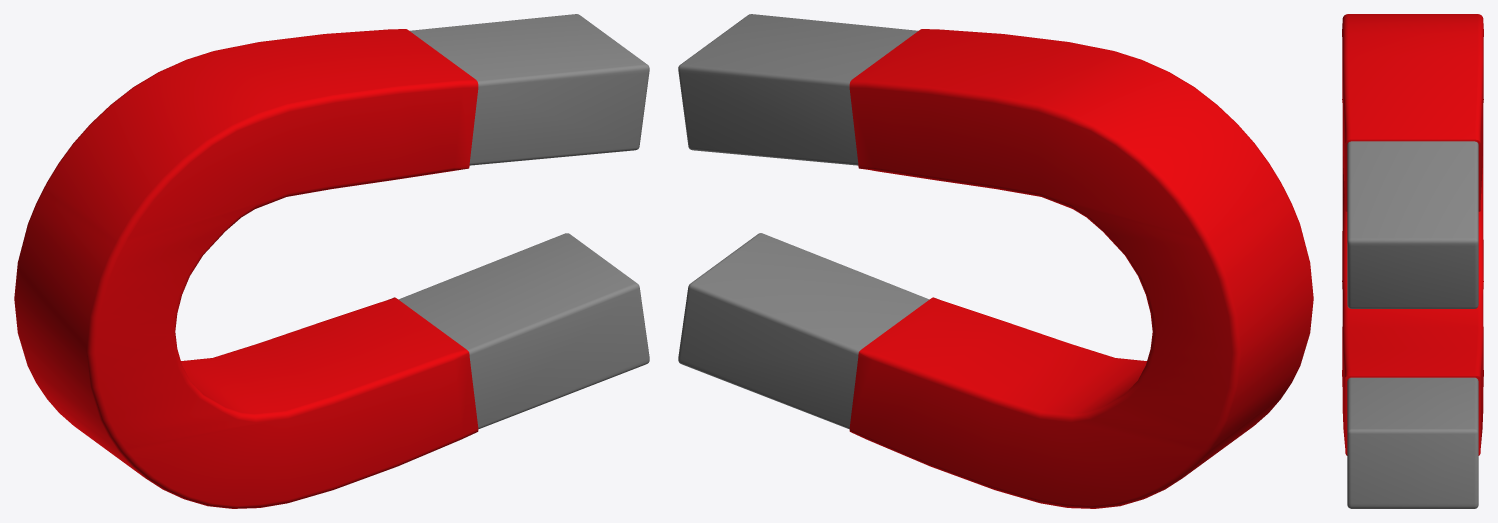
The model's file is SM_Magnet.fbx.
3 views of the same model, side by side, from view 1: azimuth 30°, elevation 25°; view 2: azimuth 150°, elevation 25°; view 3: azimuth 270°, elevation 25° (orthographic). The views are drawn at different scales.
Parts seen in each view (by area): view 1: SM_Magnet; view 2: SM_Magnet; view 3: SM_Magnet.
Boxes of the visible parts, bbox=[...] form: SM_Magnet: bbox=[14, 14, 649, 508]; SM_Magnet: bbox=[678, 14, 1313, 508]; SM_Magnet: bbox=[1342, 14, 1483, 508].
Bounding box in the file's own units: 89.24 × 60.3 × 21.49.
